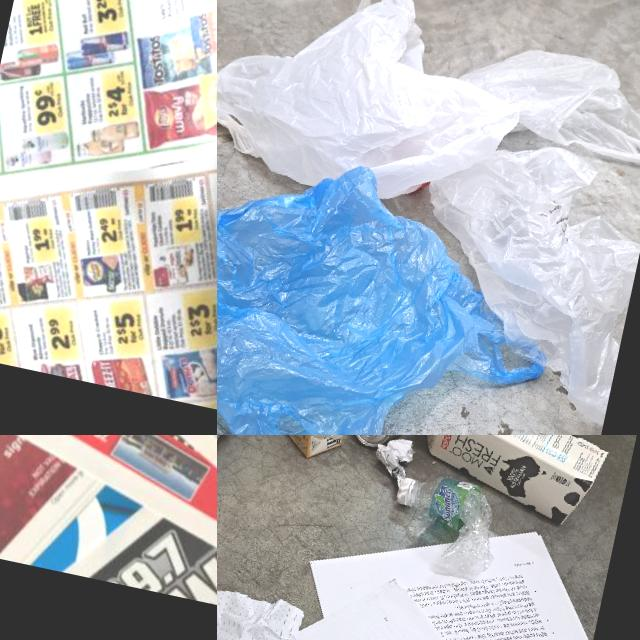caixinha: (404, 435, 616, 532), (244, 435, 357, 465)
garrafa plástica: (402, 470, 508, 582)
lata: (348, 435, 429, 456)
papel: (0, 0, 217, 435), (217, 482, 611, 640), (0, 435, 217, 640), (369, 435, 416, 490)
sacola plástica: (217, 130, 576, 435), (387, 123, 640, 428), (217, 0, 541, 222), (444, 29, 640, 167)
tampa plástica: (396, 476, 415, 505)
